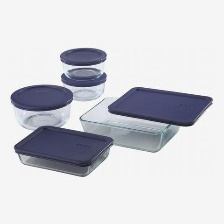plastic_box: (75, 78, 221, 157), (8, 121, 118, 181), (6, 79, 78, 132), (56, 42, 112, 103)
